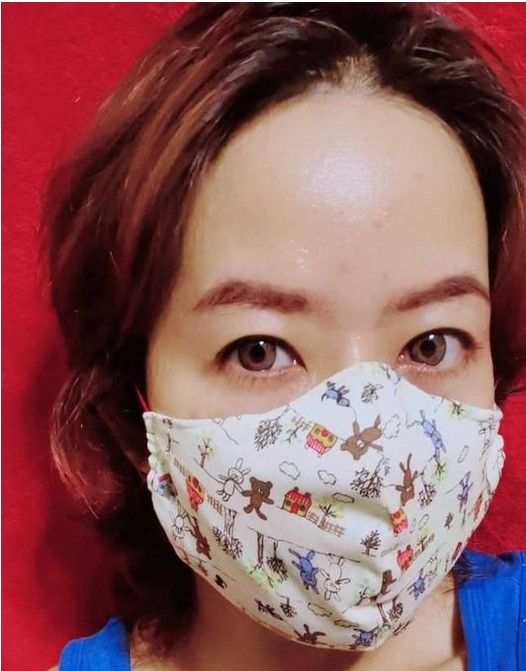face_with_mask: (92, 1, 503, 657)
